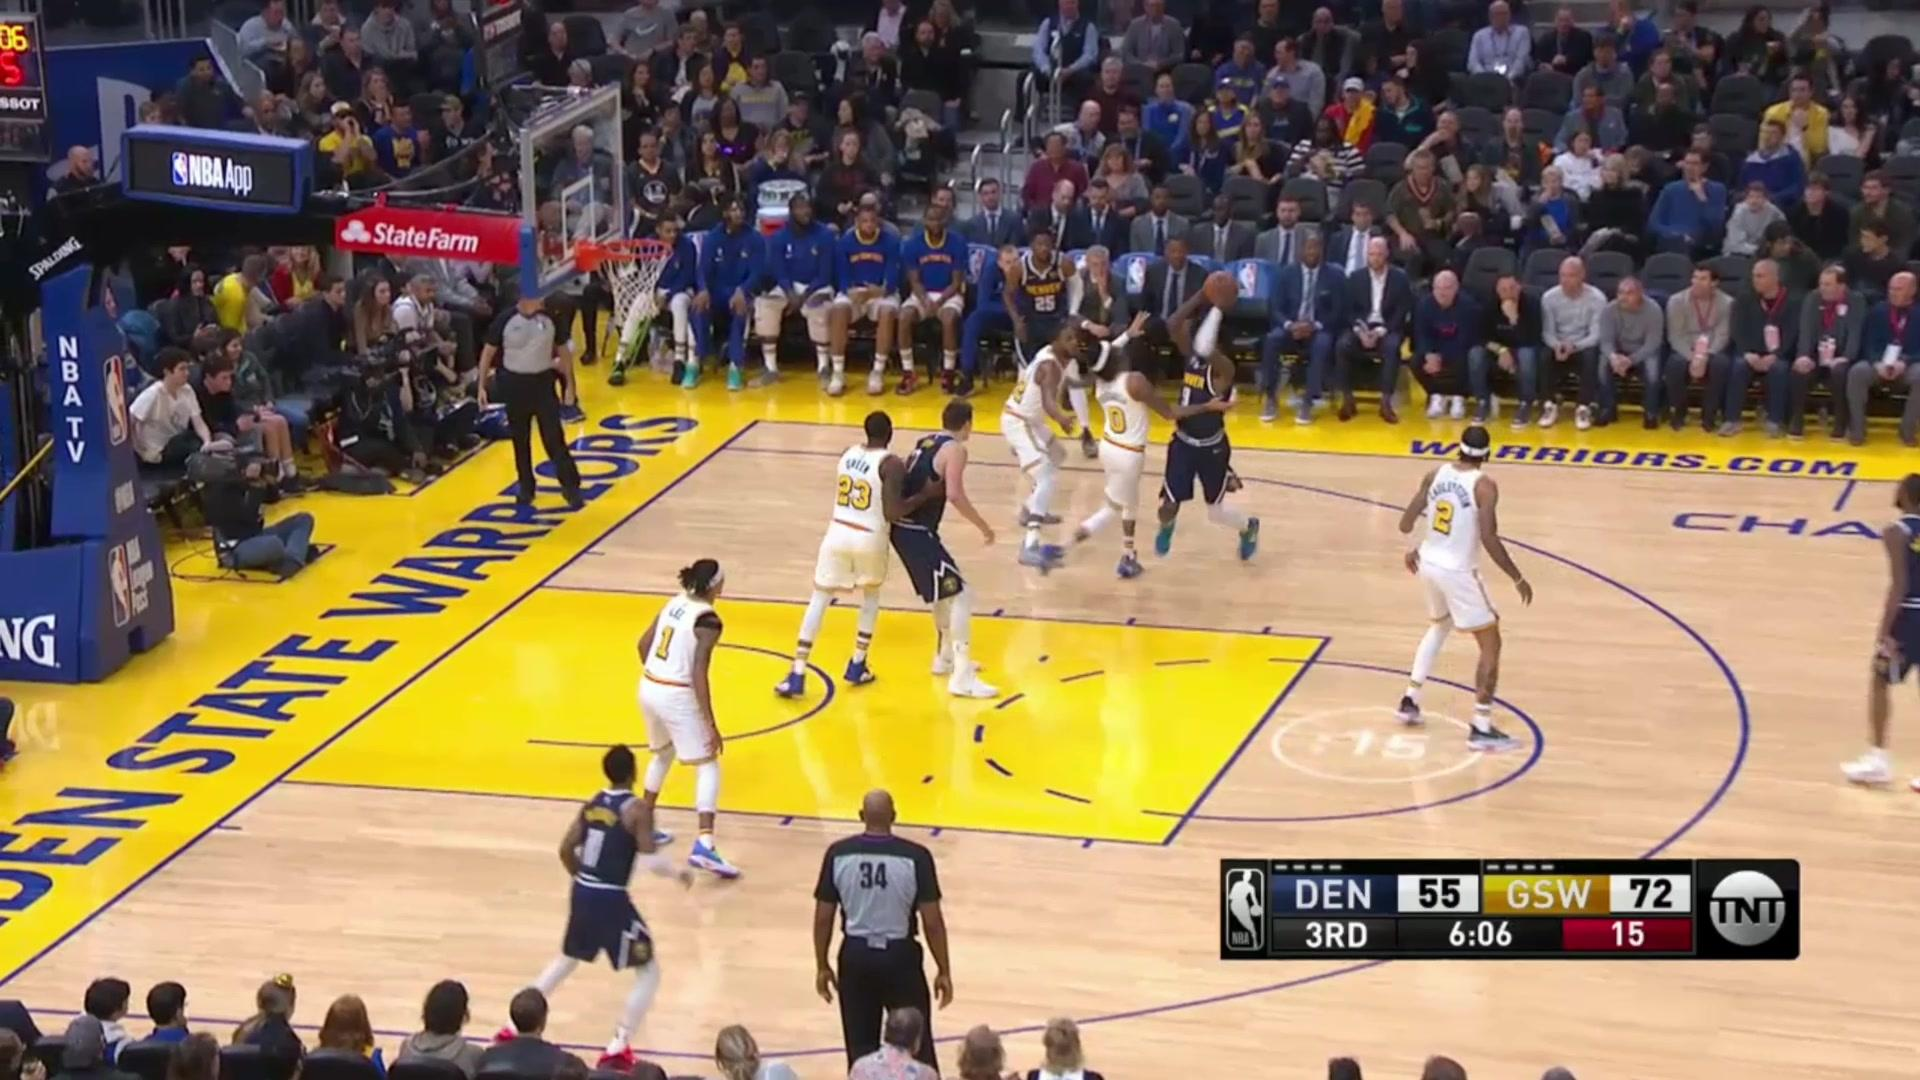no_foul: (1088, 323, 1258, 585)
